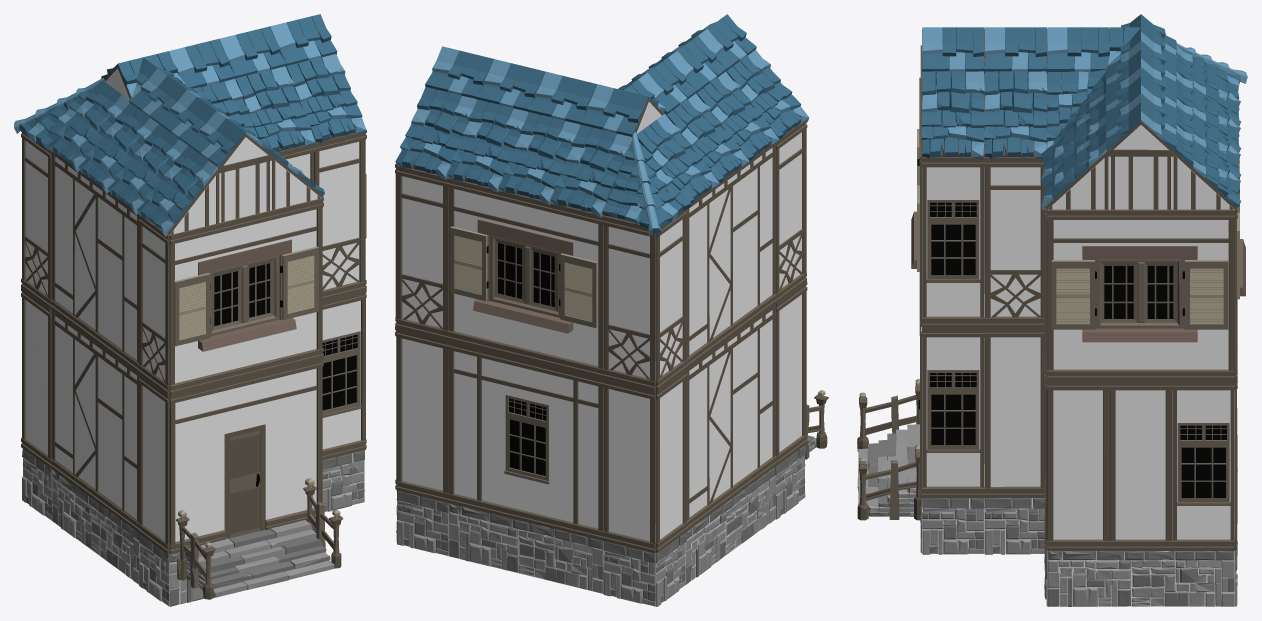
Rendered from House_12_full.glb.
The picture shows the model from 3 angles, left to right: view 1: azimuth 30°, elevation 25°; view 2: azimuth 150°, elevation 25°; view 3: azimuth 270°, elevation 25°; orthographic projection. The views are drawn at different scales.
Parts seen in each view (by area): view 1: WINDOW_06_2, DOOR_05_2, WALL_05_3, WALL_05_2, STAIRS_03_2, WALL_04_4, WINDOW_04_4, WALL_04_8, WALL_03_10, WALL_03_9, WALL_04_7, FOUNDATION_02_19 (+26 smaller); view 2: WINDOW_06_4, WINDOW_03_2, WALL_05_3, WALL_05_2, WALL_04_5, WALL_03_8, WALL_03_7, WALL_04_6, FOUNDATION_02_18, WALL_03_9, WALL_04_7, WALL_04_8 (+23 smaller); view 3: WINDOW_06_3, WINDOW_04_3, WINDOW_04_6, WINDOW_04_5, WALL_03_6, WALL_03_5, FOUNDATION_02_17, WALL_03_3, WALL_04_3, STAIRS_03_2, ROOF_base_4, ROOF_base_3 (+29 smaller).
Boxes of the visible parts, box(x1,y1,x2,y2) form: WINDOW_06_2: box(169, 198, 322, 395); DOOR_05_2: box(169, 358, 322, 554); WALL_05_3: box(50, 150, 139, 372); WALL_05_2: box(50, 310, 139, 531); STAIRS_03_2: box(176, 478, 343, 599); WALL_04_4: box(314, 132, 365, 300); WINDOW_04_4: box(322, 290, 365, 460); WALL_04_8: box(138, 214, 169, 394); WALL_03_10: box(138, 374, 169, 554); WALL_03_9: box(21, 288, 51, 468); WALL_04_7: box(21, 131, 51, 308); FOUNDATION_02_19: box(52, 470, 140, 584); WINDOW_06_4: box(447, 177, 603, 378); WINDOW_03_2: box(447, 341, 603, 540); WALL_05_3: box(686, 144, 776, 368); WALL_05_2: box(686, 304, 776, 530); WALL_04_5: box(396, 165, 448, 340); WALL_03_8: box(603, 378, 655, 553); WALL_03_7: box(396, 328, 448, 502); WALL_04_6: box(603, 215, 655, 390); FOUNDATION_02_18: box(449, 503, 604, 593); WALL_03_9: box(656, 369, 687, 552); WALL_04_7: box(656, 208, 687, 390); WALL_04_8: box(775, 122, 807, 303); WINDOW_06_3: box(1047, 209, 1234, 380); WINDOW_04_3: box(922, 328, 984, 498); WINDOW_04_6: box(922, 157, 984, 327); WINDOW_04_5: box(1172, 381, 1234, 550); WALL_03_6: box(1110, 381, 1172, 550); WALL_03_5: box(1047, 381, 1109, 550); FOUNDATION_02_17: box(1047, 551, 1234, 606); WALL_03_3: box(984, 328, 1045, 497); WALL_04_3: box(984, 157, 1045, 327); STAIRS_03_2: box(857, 379, 921, 520); ROOF_base_4: box(984, 70, 1047, 159); ROOF_base_3: box(921, 69, 984, 159).
Bounding box in the file's own units: 5.31 × 8.59 × 6.24.
1 material, 1 textured.
